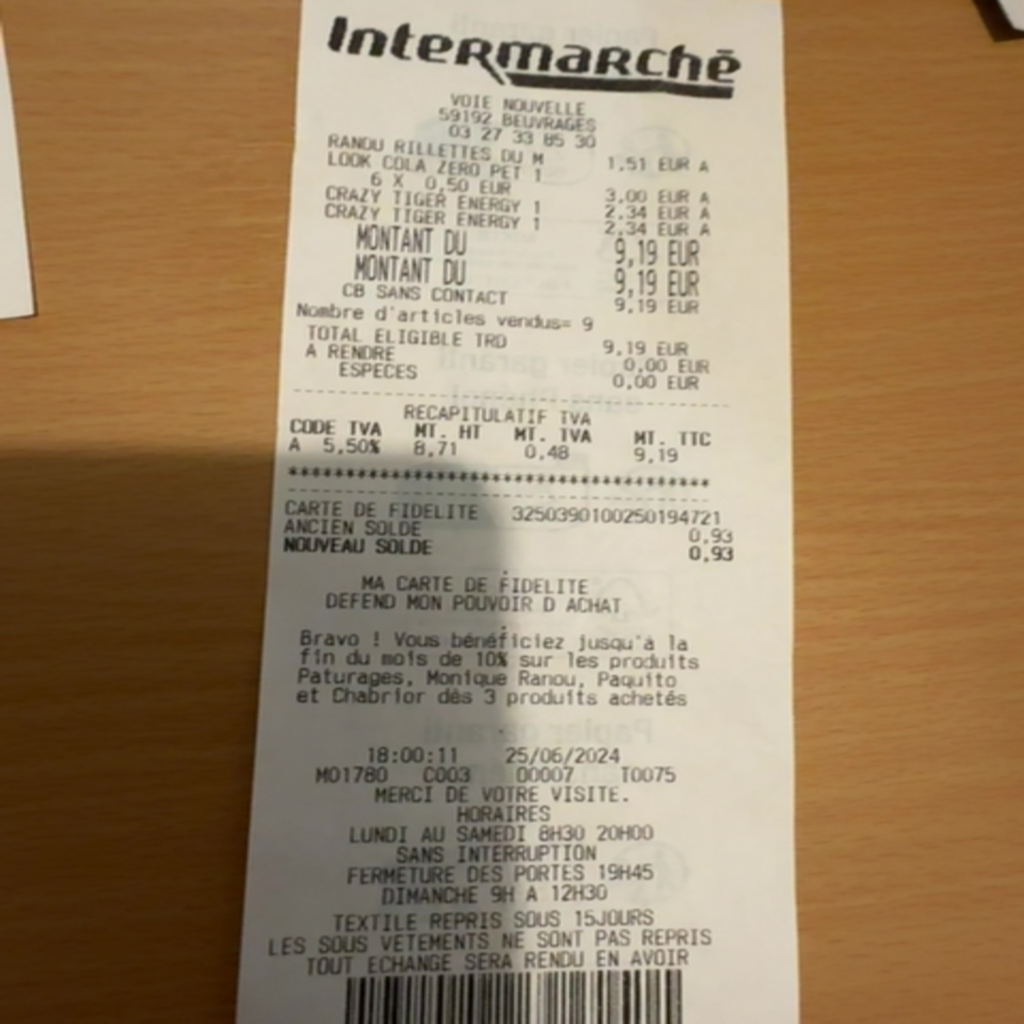recipt: (239, 0, 802, 1018)
